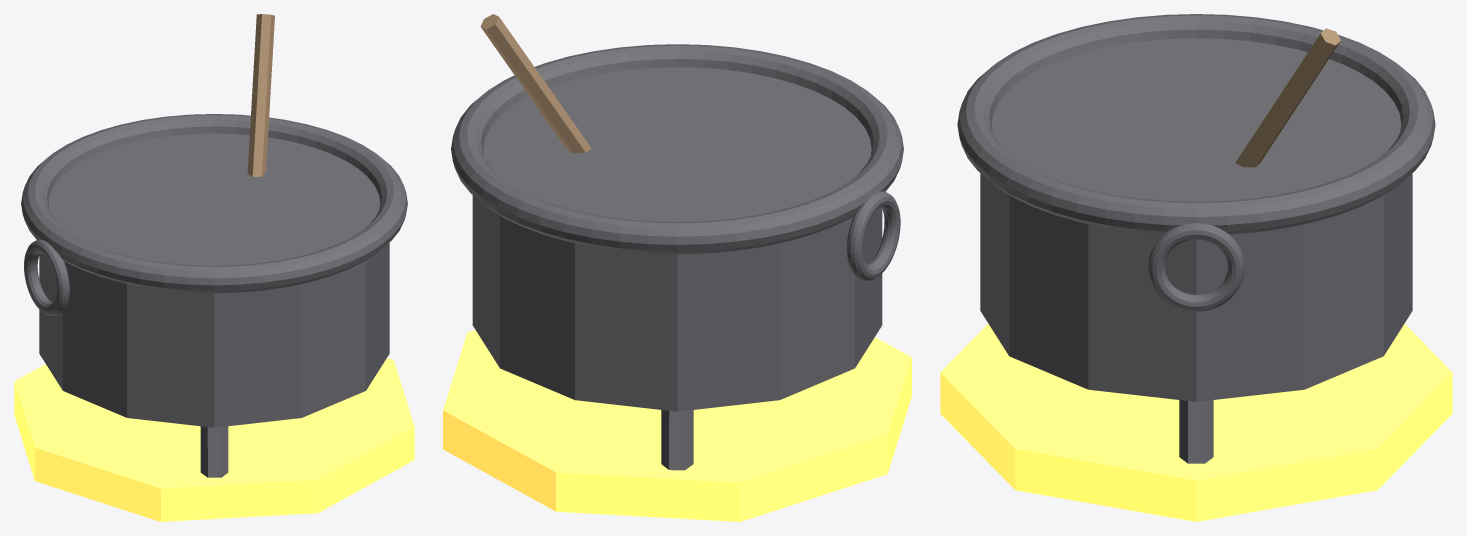
Rendered from cooking_pot.glb.
3 views of the same model, side by side, from view 1: azimuth 30°, elevation 25°; view 2: azimuth 150°, elevation 25°; view 3: azimuth 270°, elevation 25° (orthographic). The views are drawn at different scales.
Parts seen in each view (by area): view 1: Cylinder.004, Cylinder, Torus, Cylinder.006, Torus.001, Cylinder.003; view 2: Cylinder.004, Cylinder, Torus, Cylinder.006, Torus.001, Cylinder.002; view 3: Cylinder.004, Cylinder, Torus, Torus.002, Cylinder.006, Cylinder.001.
Part boxes in pixels (<box>): Cylinder.004: <box>39,133,389,427</box>; Cylinder: <box>14,358,414,521</box>; Torus: <box>21,114,407,293</box>; Cylinder.006: <box>247,14,274,176</box>; Torus.001: <box>24,239,69,315</box>; Cylinder.003: <box>200,426,228,477</box>; Cylinder.004: <box>472,67,882,411</box>; Cylinder: <box>443,330,911,521</box>; Torus: <box>451,44,903,254</box>; Cylinder.006: <box>480,14,591,153</box>; Torus.001: <box>846,191,900,280</box>; Cylinder.002: <box>661,410,693,470</box>; Cylinder.004: <box>980,38,1412,401</box>; Cylinder: <box>940,323,1452,521</box>; Torus: <box>957,14,1435,234</box>; Torus.002: <box>1148,223,1244,311</box>; Cylinder.006: <box>1235,28,1340,167</box>; Cylinder.001: <box>1179,400,1213,463</box>.
Bounding box in the file's own units: 0.9 × 0.8641 × 0.9.
